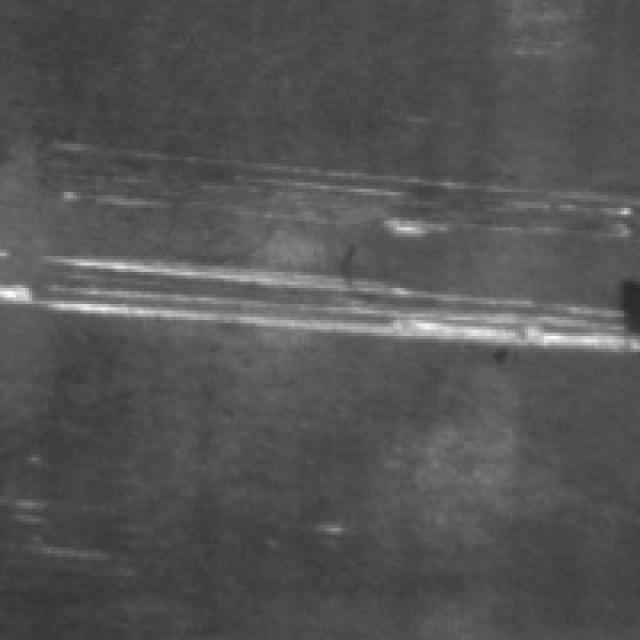scratches: (0, 246, 634, 352), (55, 132, 628, 230)
